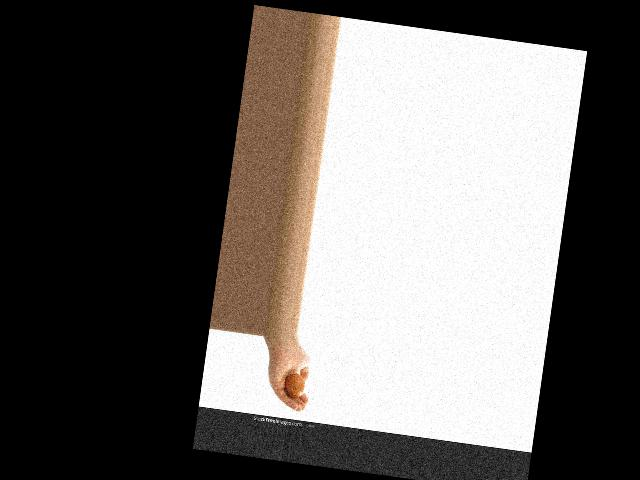egg: (283, 372, 306, 400)
